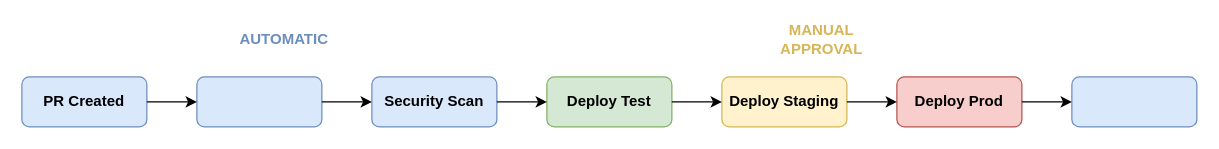
This 1219x149 diagram has some shape labels left out. The centre of each missing label's shape, as x and y in pixels:
Build & Test: (259,101)
Tag Release: (1134,101)
